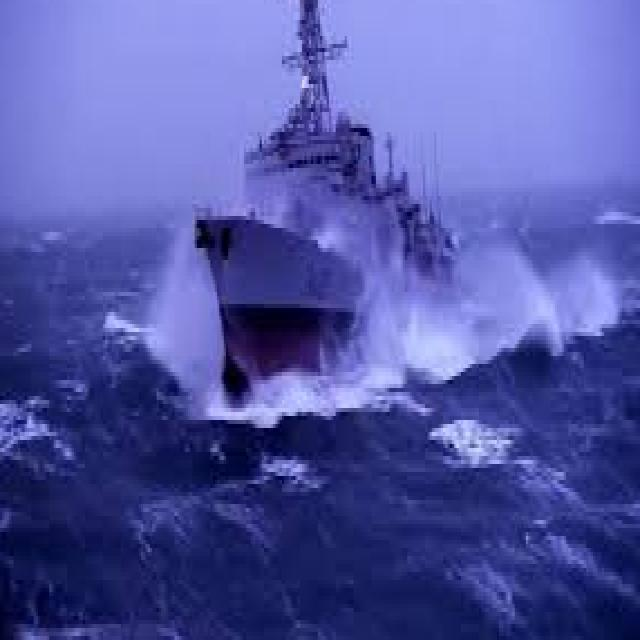navalvessels: (175, 0, 474, 392)
